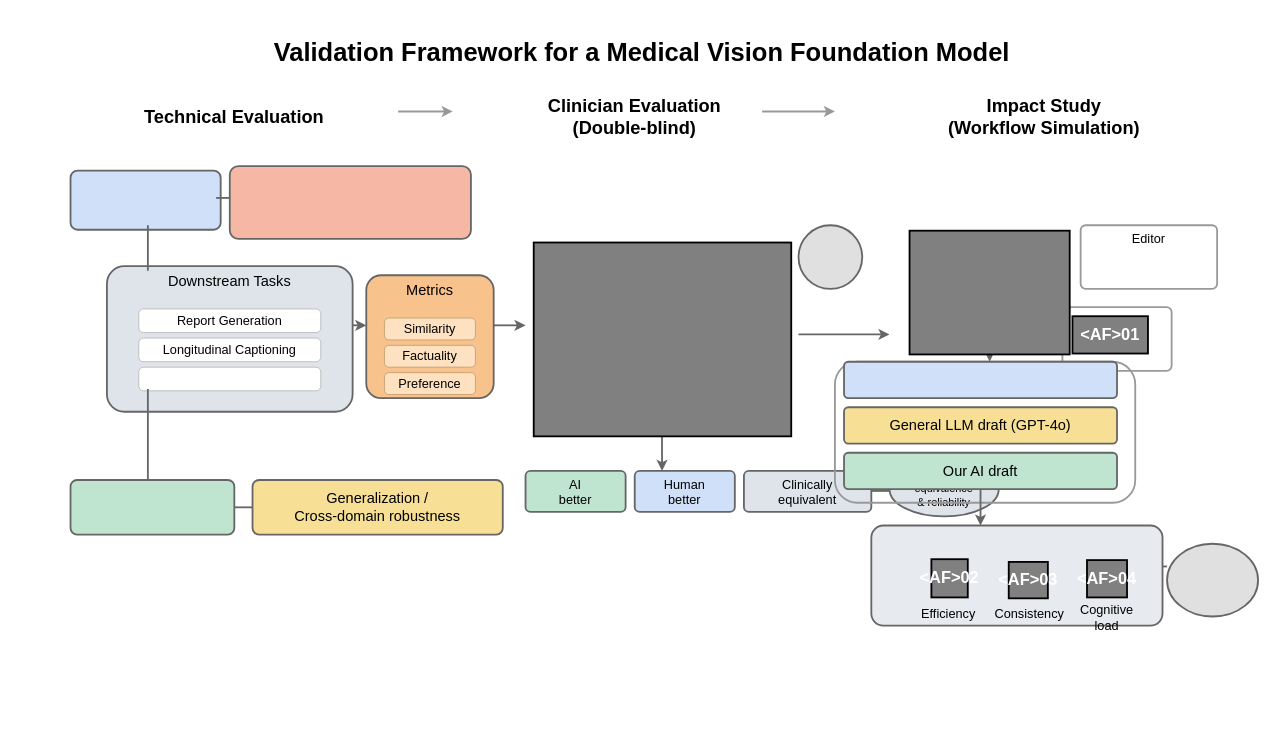
This 1283x730 diagram has some shape labels left out. The shapes that lost their labels are listed below. From the top down, each one's centre as x and y in pixels, then its label:
At (145,199): "Internal Cohorts".
At (349,202): "Capability Tags Learned-task mastery / Performance baseline".
At (830,256): "Double- blind".
At (989,292): "<AF>06".
At (662,339): "<AF>05".
At (229,378): "Open-ended VQA".
At (980,379): "No-AI baseline".
At (152,507): "External Cohorts".
At (1212,579): "Workflow benefit in real settings".
